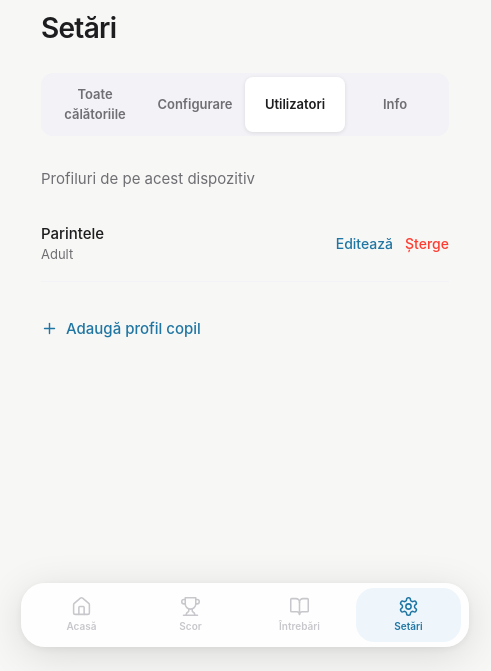
it: R4: Setări -- distinct load-error vs. empty-list states › a failed getTripsForCurrentAccount shows a retry, not an empty list
The width and height of the screenshot is (491, 671).
Click the button "Toate călătoriile": coordinates (95, 104) [45,77,145,132]
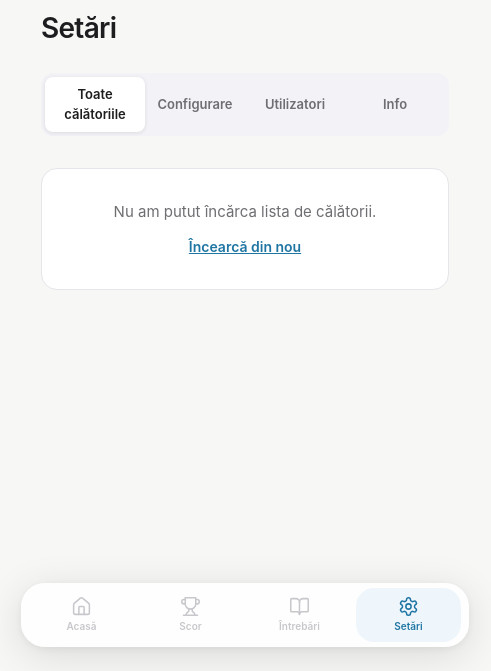
Check: the text "Nicio călătorie încă." is not shown
Check: the text "Nu am putut încărca lista de călătorii." is shown, box [114,201,376,224]
Click the button "Încearcă din nou": coordinates (245, 246) [189,236,301,256]
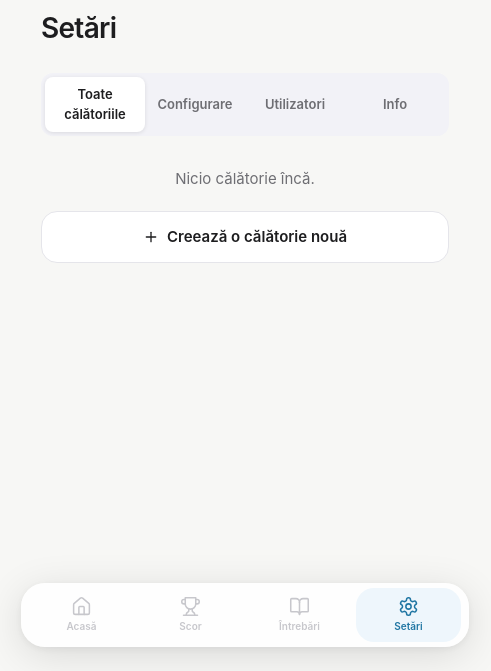
Check: the text "Nicio călătorie încă." is shown, box [175,169,315,188]
